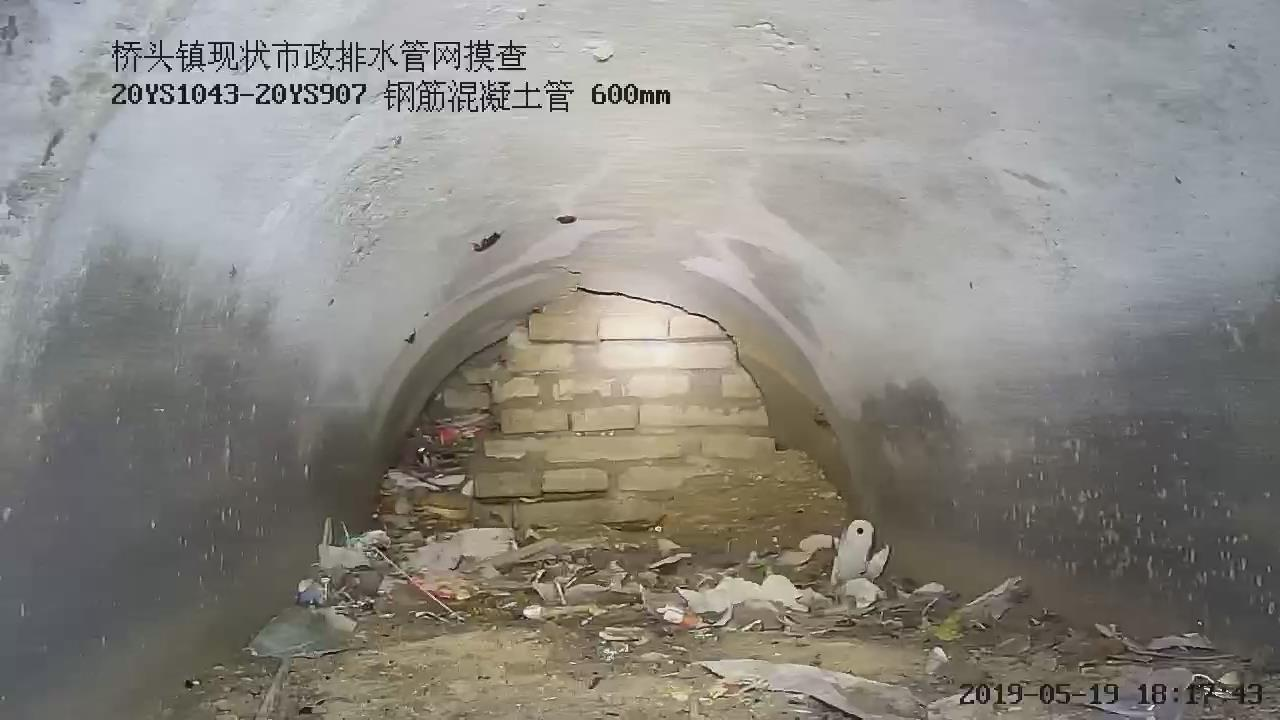CJ: (193, 452, 1273, 719)
CQBG: (469, 292, 776, 527)
